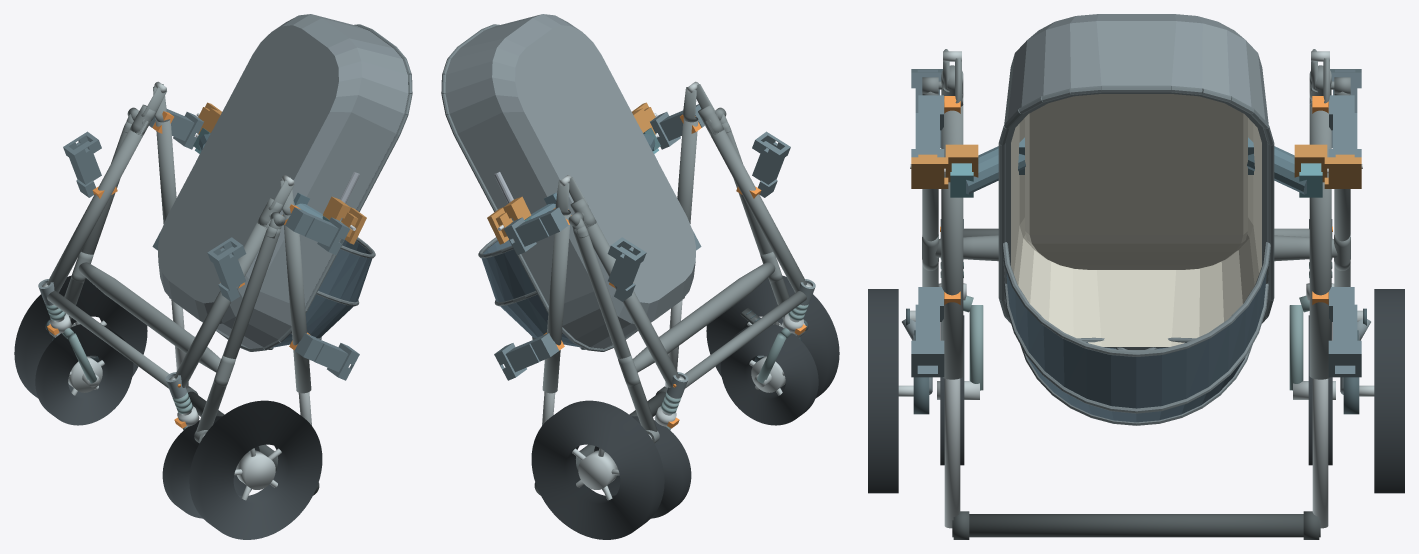
File: S06_w650_state3_wheel_M.glb
3 renders of one model, left to right at view 1: azimuth 30°, elevation 25°; view 2: azimuth 150°, elevation 25°; view 3: azimuth 270°, elevation 25°, orthographic. The views are drawn at different scales.
Visible parts, largest first — view 1: S06_Cabin, RL_tire.008, FR_tire.008, RR_tire.008, V46_rearbar.009, main_lower_1.009, V46_rear_leg_-1.009, FL_tire.008, main_upper_-1.009, main_lower_-1.009, front_fixed_round_tube.008, Universal_Cabin_Receiver_M_-1 (+12 smaller); view 2: S06_Cabin, RR_tire.008, FL_tire.008, RL_tire.008, V46_rearbar.009, main_lower_-1.009, V46_rear_leg_1.009, FR_tire.008, main_upper_1.009, main_lower_1.009, front_fixed_round_tube.008, Universal_Cabin_Receiver_H_1 (+12 smaller); view 3: S06_Cabin, round_handle.008, RL_tire.008, RR_tire.008, main_upper_1.009, main_upper_-1.009, S06_Cabin_Mount_M, Universal_Cabin_Receiver_H_1, Universal_Cabin_Receiver_H_-1, handle_slider_1.008, handle_slider_-1.008, D02_WideAdapter_M_-1 (+12 smaller).
Boxes of the visible parts, x1,y1,x2,y2 form: S06_Cabin: (158, 14, 412, 351); RL_tire.008: (189, 400, 322, 539); FR_tire.008: (35, 324, 133, 425); RR_tire.008: (14, 275, 147, 398); V46_rearbar.009: (78, 262, 220, 372); main_lower_1.009: (47, 121, 148, 292); V46_rear_leg_-1.009: (196, 226, 280, 431); FL_tire.008: (162, 416, 259, 518); main_upper_-1.009: (283, 213, 311, 393); main_lower_-1.009: (174, 220, 270, 387); front_fixed_round_tube.008: (47, 291, 168, 388); Universal_Cabin_Receiver_M_-1: (285, 207, 349, 255); S06_Cabin: (441, 14, 695, 351); RR_tire.008: (531, 400, 664, 539); FL_tire.008: (720, 324, 818, 425); RL_tire.008: (706, 275, 839, 398); V46_rearbar.009: (633, 262, 775, 372); main_lower_-1.009: (705, 121, 806, 292); V46_rear_leg_1.009: (573, 226, 657, 431); FR_tire.008: (594, 416, 691, 518); main_upper_1.009: (542, 211, 570, 393); main_lower_1.009: (583, 220, 679, 387); front_fixed_round_tube.008: (685, 291, 806, 388); Universal_Cabin_Receiver_H_1: (494, 333, 559, 380); S06_Cabin: (998, 14, 1274, 425); round_handle.008: (952, 514, 1320, 537); RL_tire.008: (868, 289, 898, 493); RR_tire.008: (1374, 289, 1404, 493); main_upper_1.009: (1309, 105, 1331, 379); main_upper_-1.009: (941, 105, 963, 379); S06_Cabin_Mount_M: (944, 137, 1328, 197); Universal_Cabin_Receiver_H_1: (1328, 287, 1361, 377); Universal_Cabin_Receiver_H_-1: (911, 287, 944, 377); handle_slider_1.008: (1312, 378, 1328, 528); handle_slider_-1.008: (944, 378, 960, 528); D02_WideAdapter_M_-1: (910, 144, 978, 188).
Bounding box in the file's own units: 0.6919 × 0.9393 × 0.7871.
